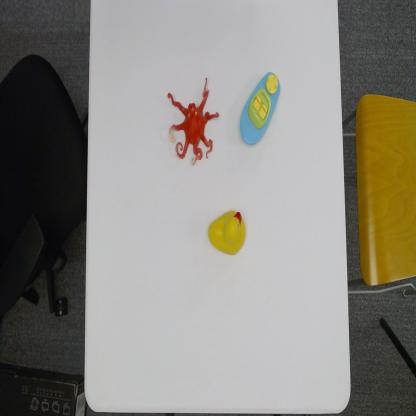Boat: (237, 67, 282, 146)
Duck: (207, 207, 247, 256)
Octopus: (166, 77, 223, 166)
